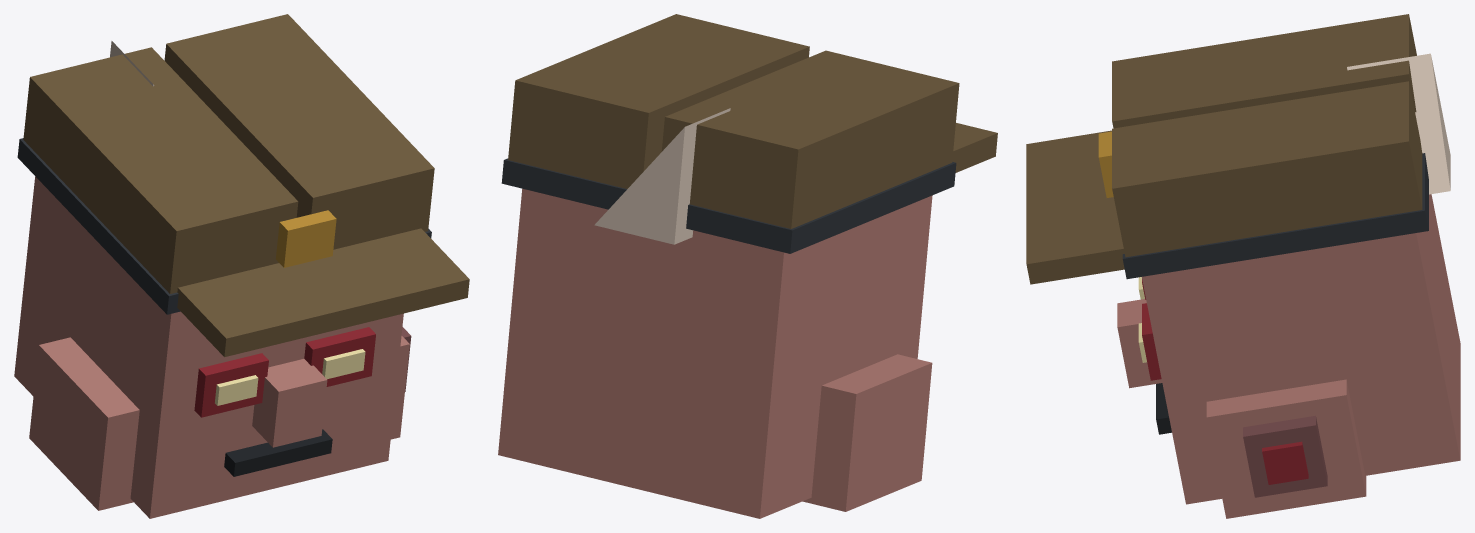
File: inf_driver_head.fbx
3 views of the same model, side by side, from view 1: azimuth 30°, elevation 25°; view 2: azimuth 150°, elevation 25°; view 3: azimuth 270°, elevation 25° (orthographic). The views are drawn at different scales.
Parts seen in each view (by area): view 1: inf_driver_head; view 2: inf_driver_head; view 3: inf_driver_head.
Part boxes in pixels (x1=…): inf_driver_head: x1=14, y1=14, x2=469, y2=518; inf_driver_head: x1=498, y1=14, x2=997, y2=518; inf_driver_head: x1=1026, y1=14, x2=1460, y2=518.
Size of the model in its own units: 135 by 145 by 153.
